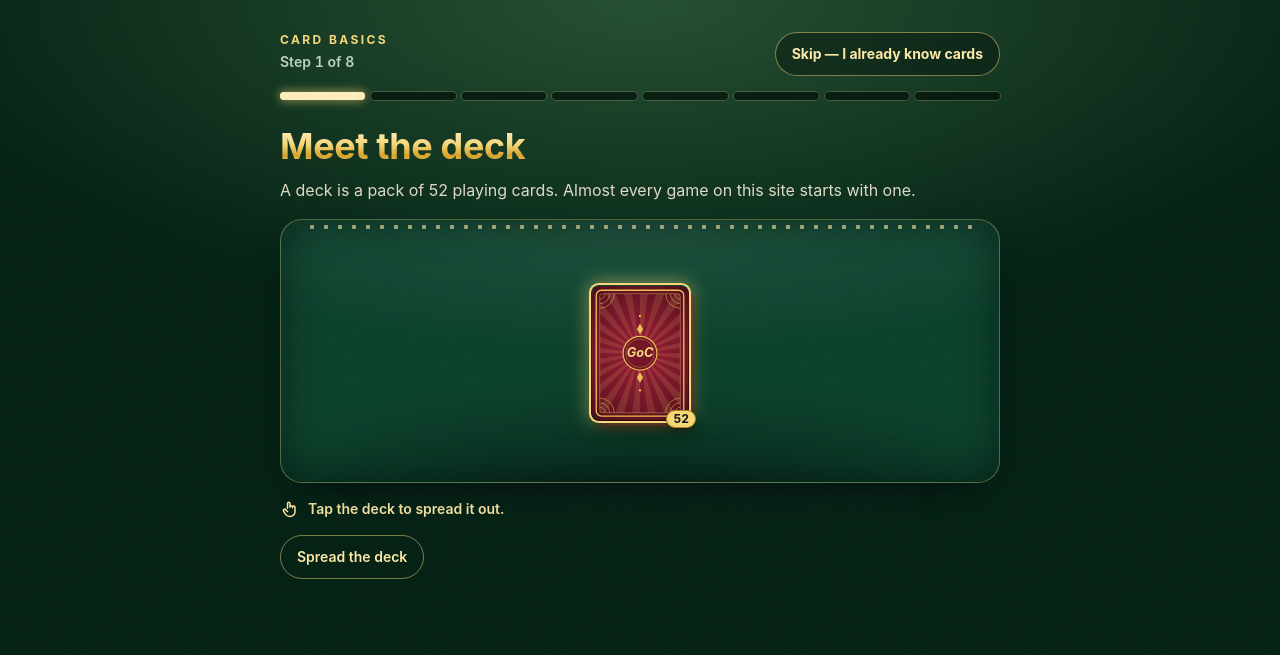
Scenario: Primer interactions › turns the face cards over one by one
This screenshot has width=1280, height=655.
Press Arrowright
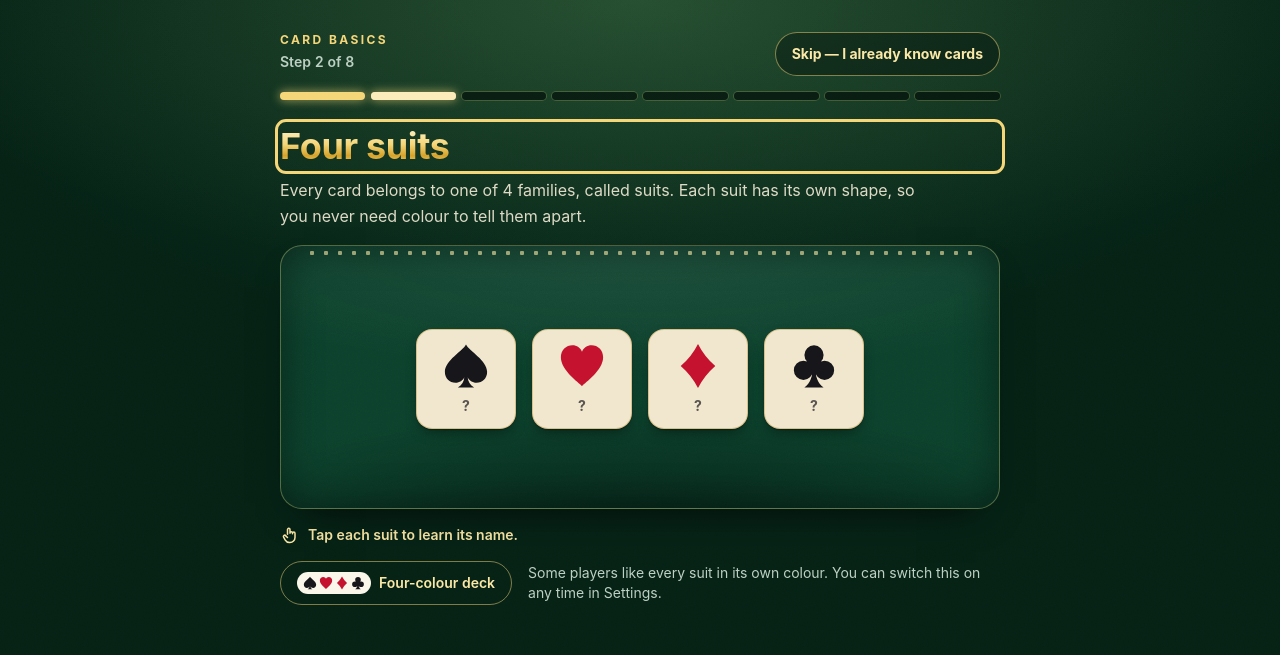
Press Arrowright
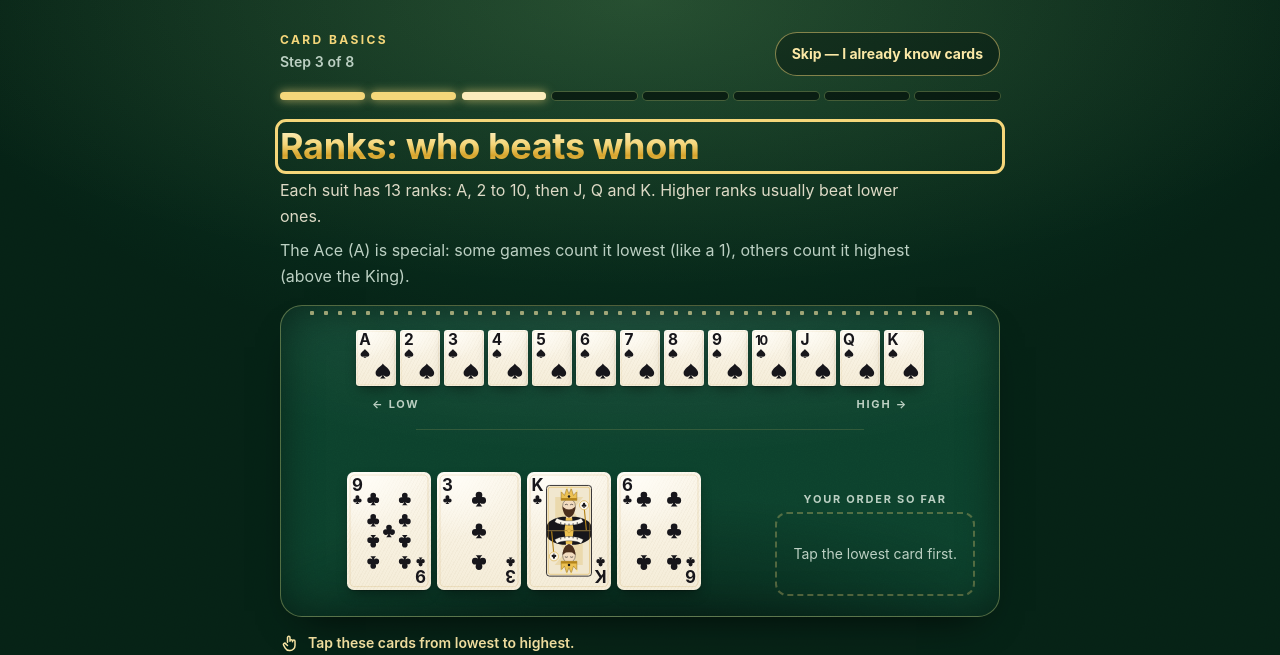
Press Arrowright
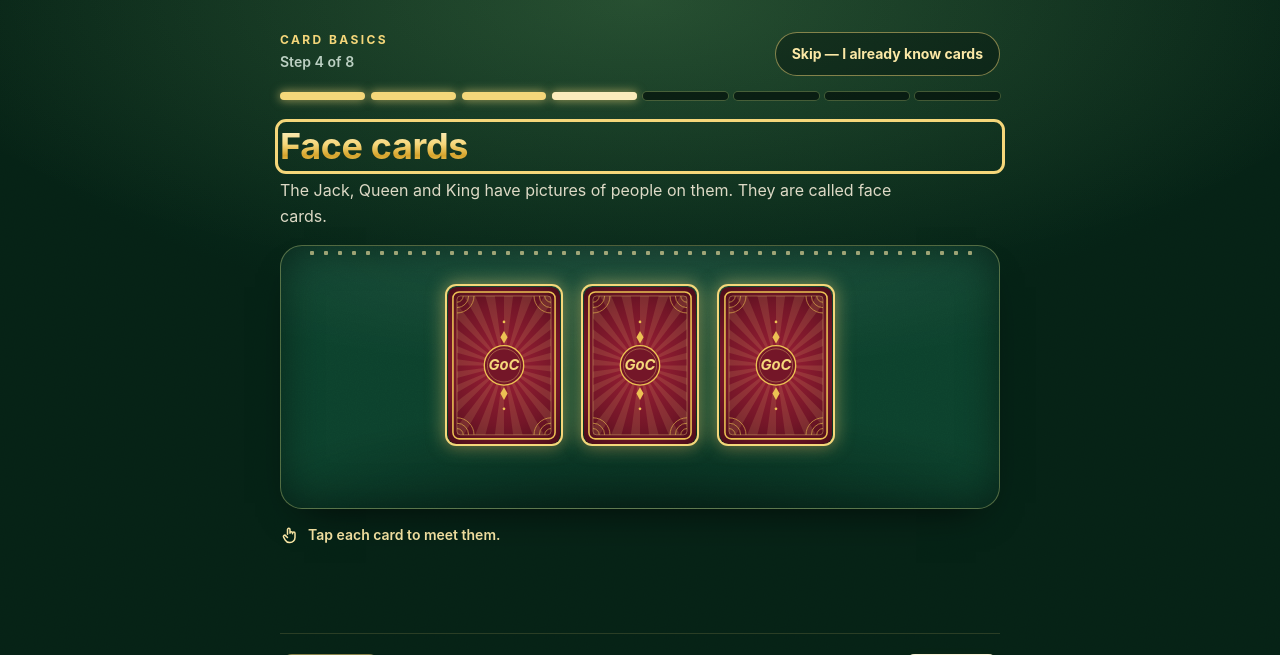
Click the button with aria-label "Face-down card 2". click: coordinates (640, 365)
box: [584,287,696,443]
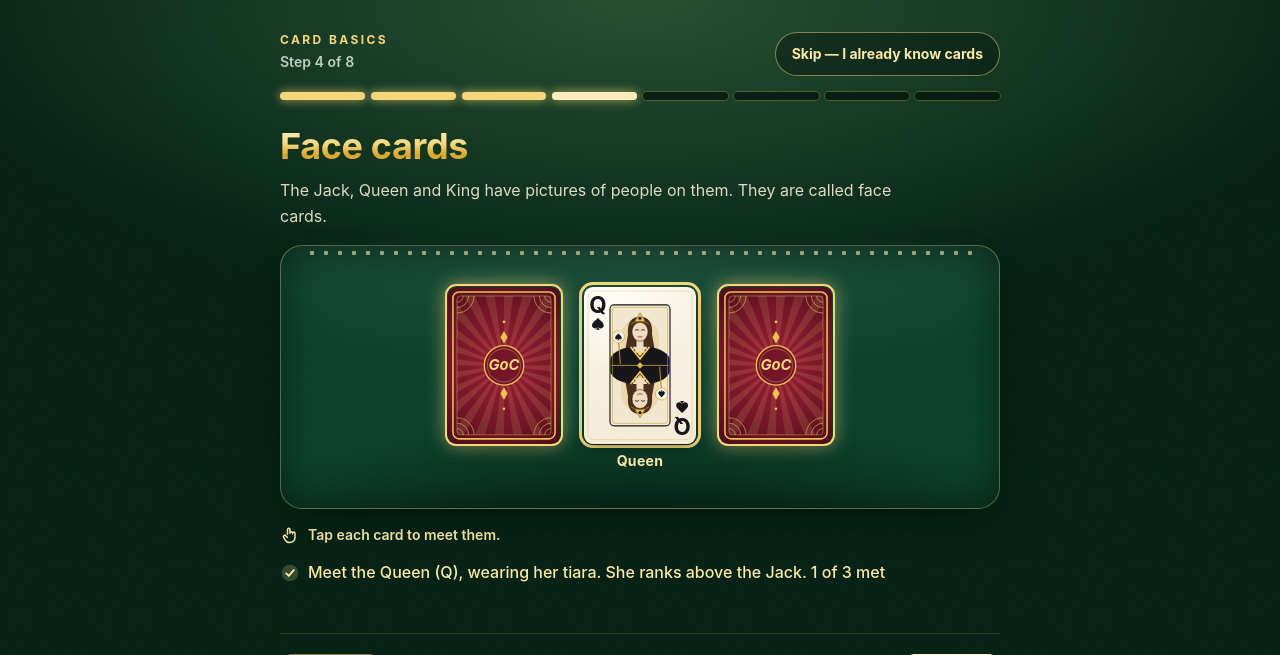
Check: the button with aria-label "Queen of Spades" is shown, box [584,287,696,443]
Check: the message shows "Meet the Queen", box [308,562,885,582]
Check: the message shows "1 of 3 met", box [308,562,885,582]
